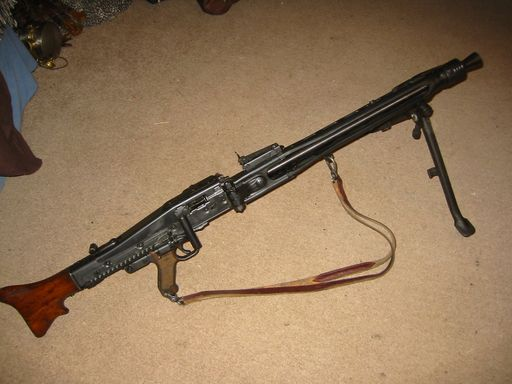rifle: (8, 52, 478, 355)
